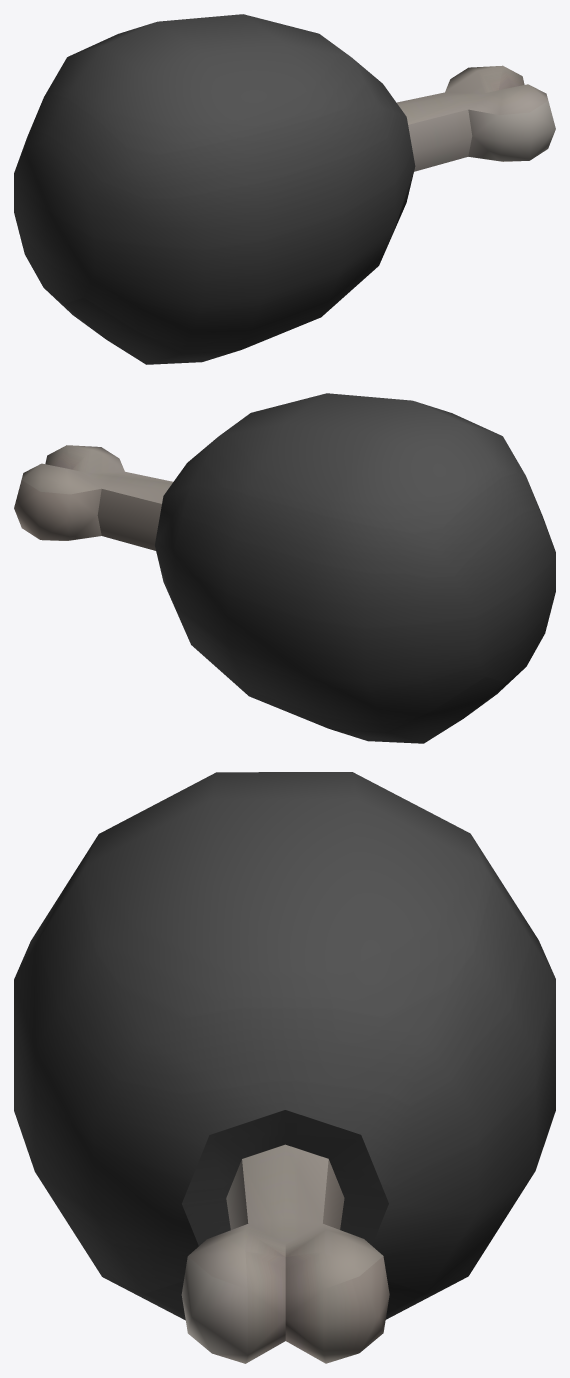
File: kaykit-restaurant-bits-food-ingredient-ham-trash.glb
3 renders of one model, top to bottom at view 1: azimuth 30°, elevation 25°; view 2: azimuth 150°, elevation 25°; view 3: azimuth 270°, elevation 25°, orthographic. The views are drawn at different scales.
Visible parts, largest first — view 1: food_ingredient_ham_trash; view 2: food_ingredient_ham_trash; view 3: food_ingredient_ham_trash.
Boxes of the visible parts, x1,y1,x2,y2 form: food_ingredient_ham_trash: [14, 14, 555, 364]; food_ingredient_ham_trash: [14, 393, 555, 743]; food_ingredient_ham_trash: [14, 772, 555, 1363].
Bounding box in the file's own units: 1.39 × 0.83 × 0.83.
Materials: 1 (1 with a texture image).
